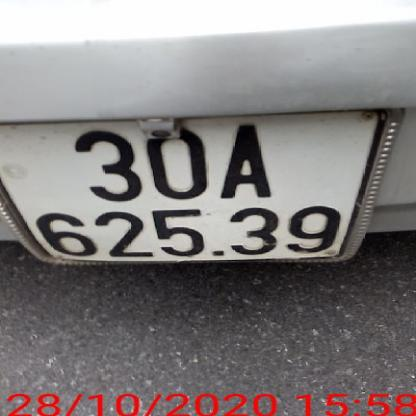biensoxe: (1, 113, 390, 281)
